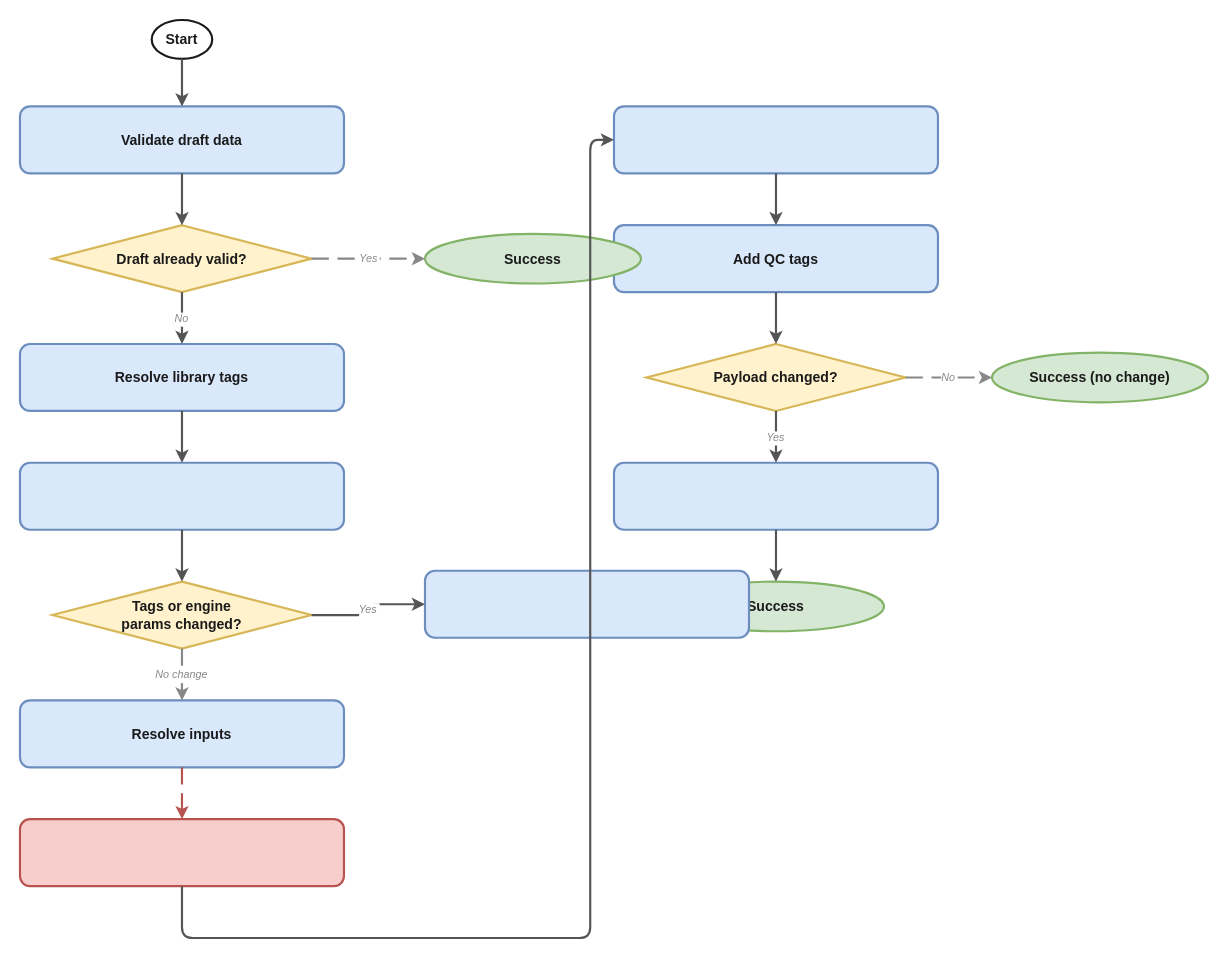
The diagram is 1227 pixels wide and 966 high, and some of its shapes have lost their labels. Here are the shapes that lost their labels. From the top down, the box of each, then its label:
(612, 105, 939, 174): Add reference data
(18, 461, 345, 530): Resolve engine parameters
(612, 461, 939, 530): Put DRAFT update event
(423, 569, 750, 638): Put DRAFT update event (intermediate)
(18, 818, 345, 887): Wait for FASTQs
